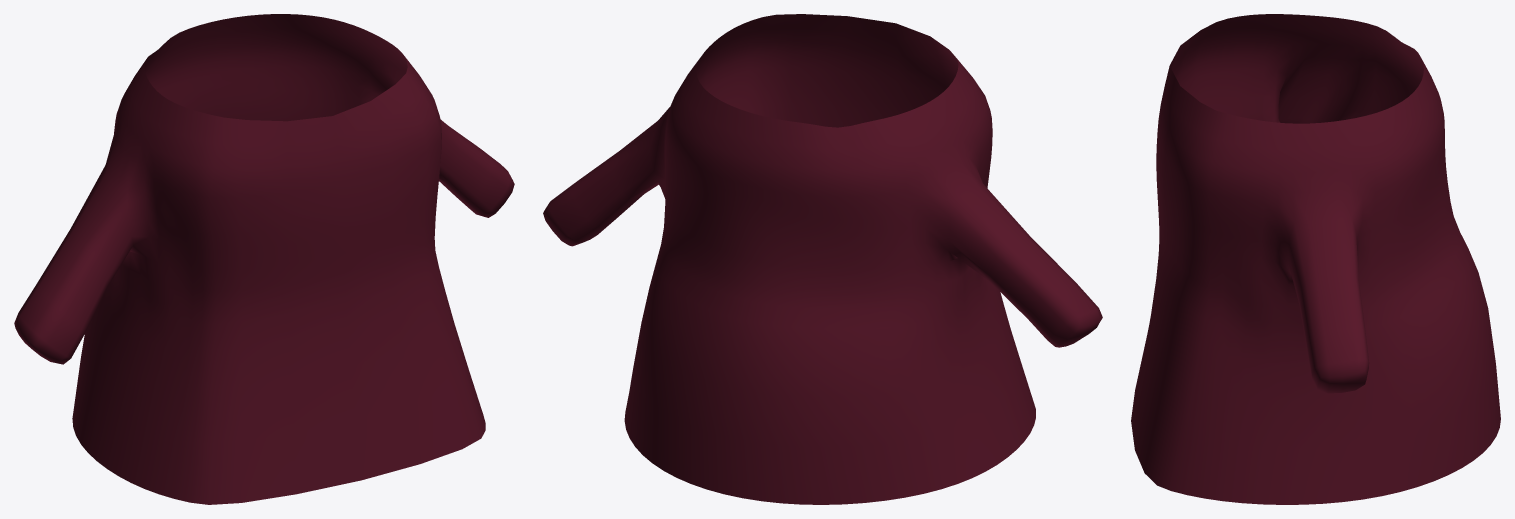
Rendered from trenchcoat.fbx.
3 views of the same model, side by side, from view 1: azimuth 30°, elevation 25°; view 2: azimuth 150°, elevation 25°; view 3: azimuth 270°, elevation 25° (orthographic).
Visible parts, largest first — view 1: Cylinder; view 2: Cylinder; view 3: Cylinder.
Boxes of the visible parts, left/top/right/bottom form: Cylinder: left=14, top=14, right=514, bottom=504; Cylinder: left=543, top=14, right=1102, bottom=504; Cylinder: left=1131, top=14, right=1500, bottom=504.
Size of the model in its own units: 904 by 595 by 564.
